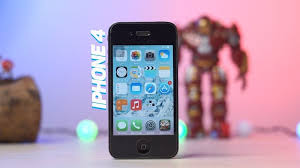iphone: (107, 18, 182, 168)
iphone4: (106, 18, 181, 168)
